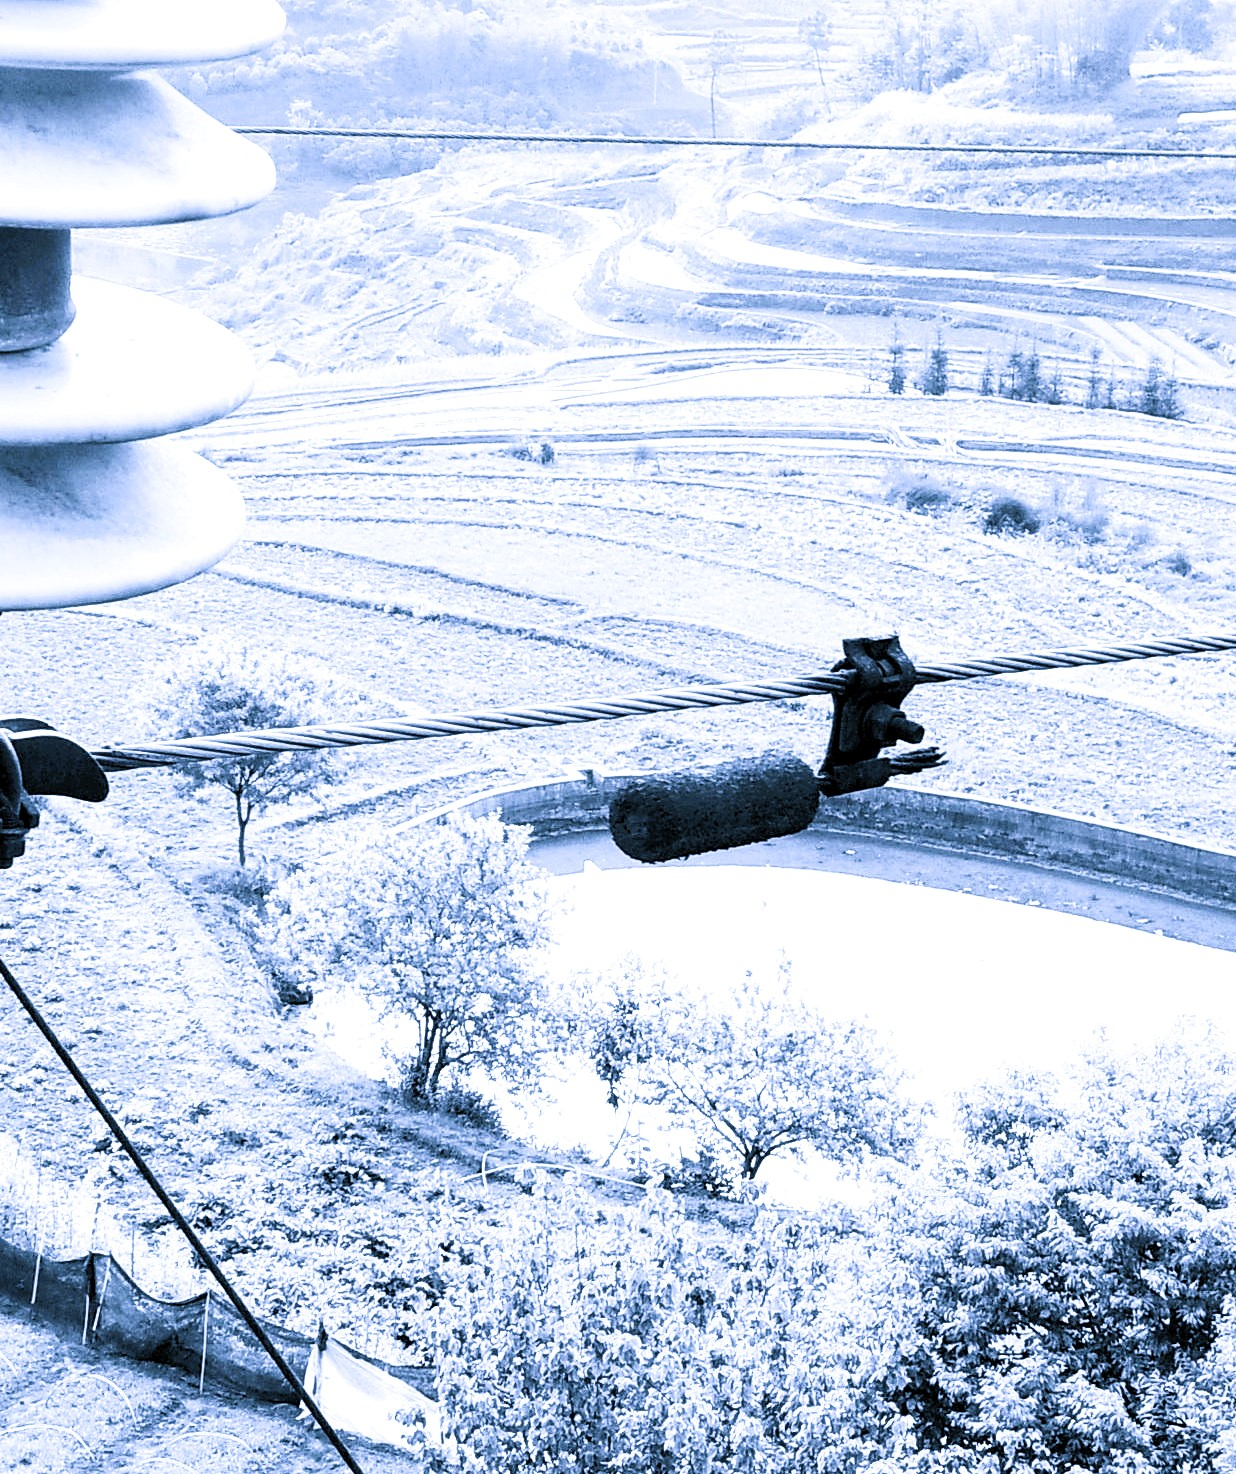Damage of shockproof hammer: (585, 612, 1003, 869)
